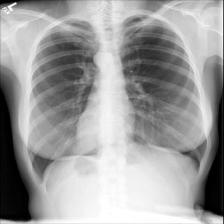normal: (21, 16, 212, 188)
